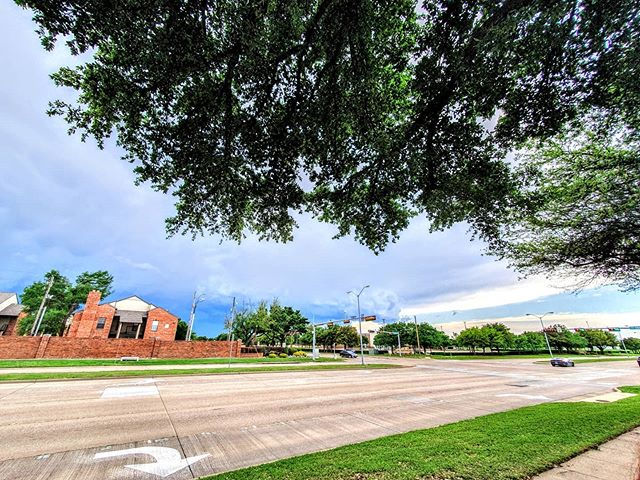building: (64, 287, 183, 344)
street: (1, 363, 634, 480)
tree: (54, 1, 636, 248)
